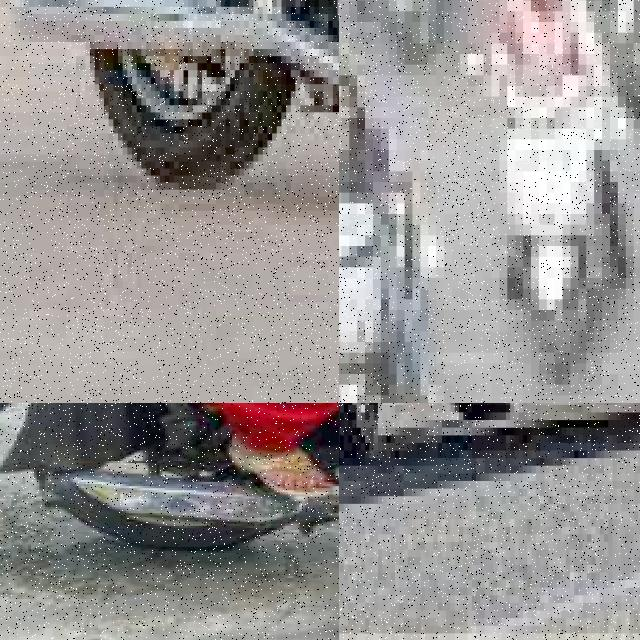bike: (6, 0, 339, 267), (0, 403, 339, 570), (475, 53, 640, 363), (339, 192, 436, 403), (349, 0, 467, 54)
car: (339, 403, 640, 542)
